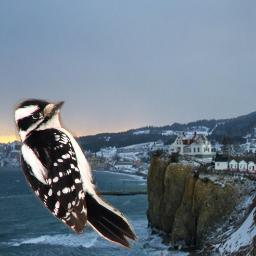Woodpecker: (13, 98, 139, 253)
